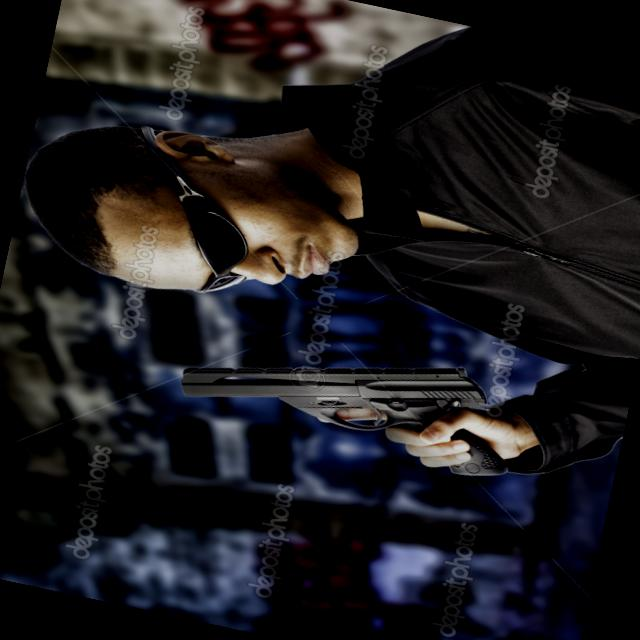handgun: (174, 298, 521, 488)
